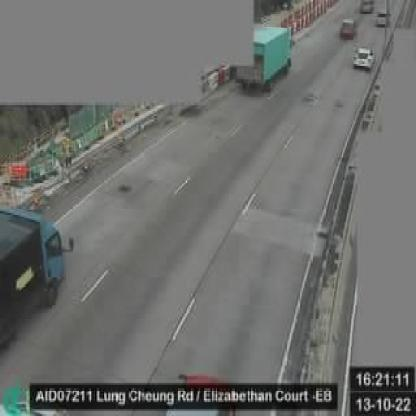Car: (352, 45, 376, 71), (339, 17, 357, 37), (374, 11, 388, 27), (362, 0, 374, 14)
Truck: (0, 201, 64, 360), (236, 26, 292, 90)
